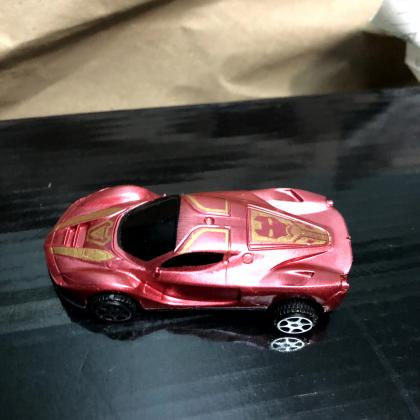Car: (43, 186, 354, 335)
